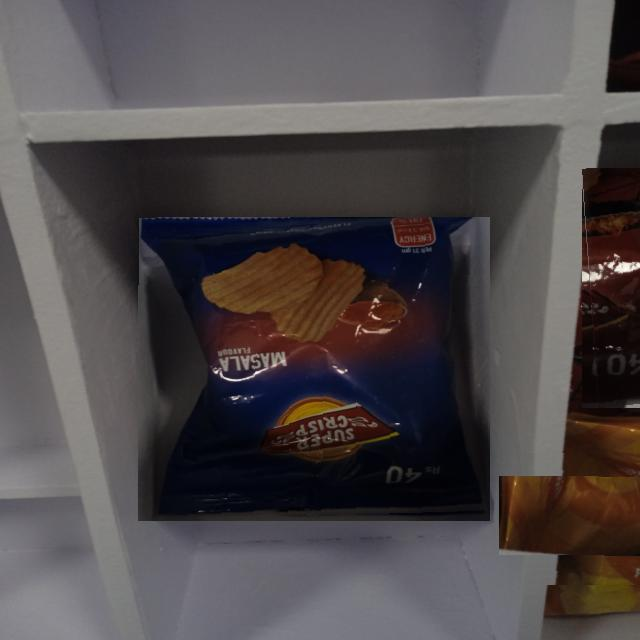Plastic: (138, 217, 490, 521), (529, 444, 640, 585), (581, 168, 640, 408)
